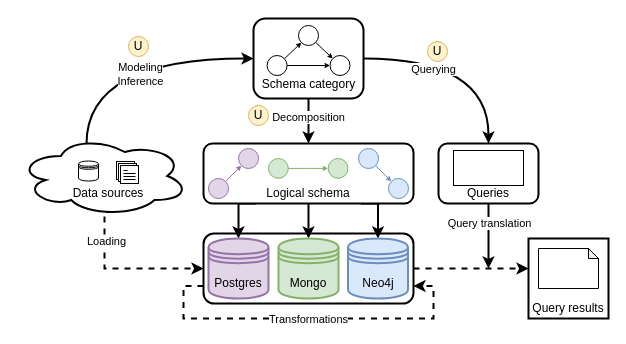
This 626x344 diagram has some shape labels left out. The shapes that lost their labels are listed below. From the top down, each one's box as (x1, y1, x2, y2) in pixels, then its label:
(452, 150, 524, 186): SELECT { ?o customer ?c ; ... }
(538, 248, 598, 288): order: { customer: 1, oid: 2023001, ... }
